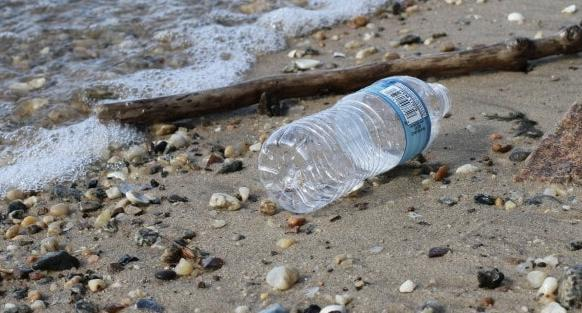Plastic: (239, 70, 457, 221)
